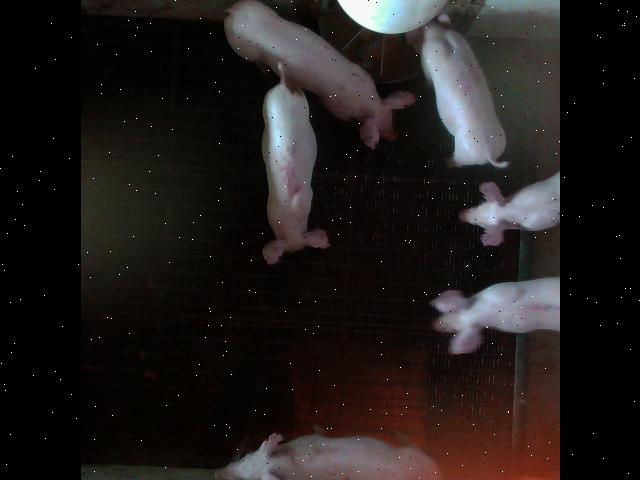pig-4: (406, 15, 507, 168)
pig-5: (261, 80, 328, 265)
